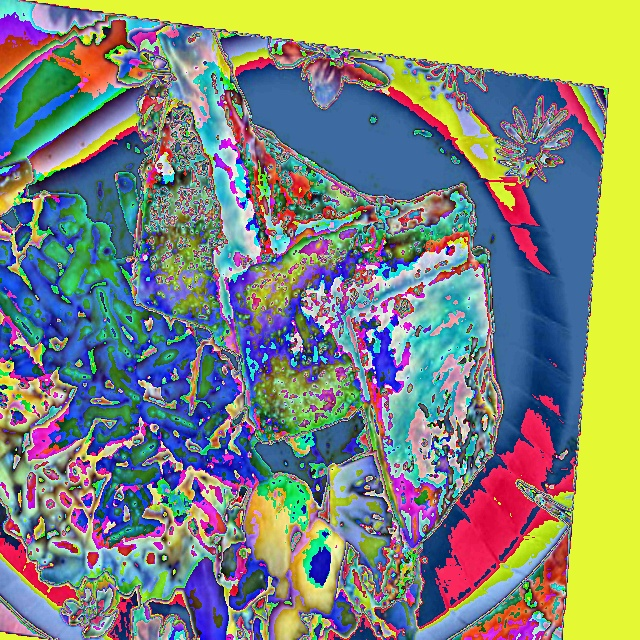background: (0, 25, 503, 639)
